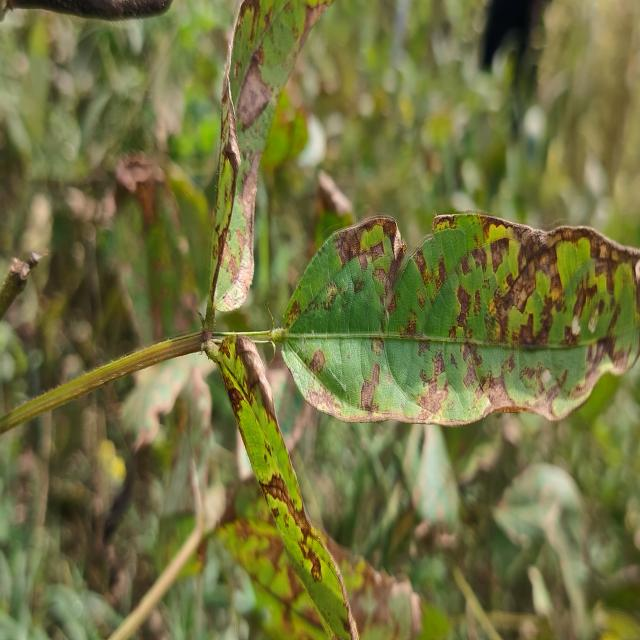Black gram_leaf spot: (282, 211, 640, 426), (201, 328, 359, 640), (205, 0, 331, 307)
